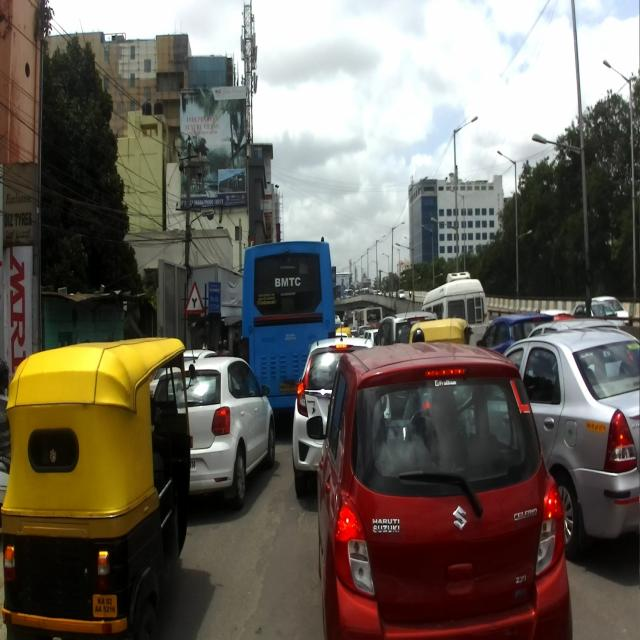Car_Maruti-Suzuki: (306, 341, 574, 637)
Car_Toyota: (505, 327, 639, 558)
Car_Volkswagen: (151, 334, 275, 510)
autorickshaw: (1, 334, 196, 638)
bus: (240, 235, 341, 381)
